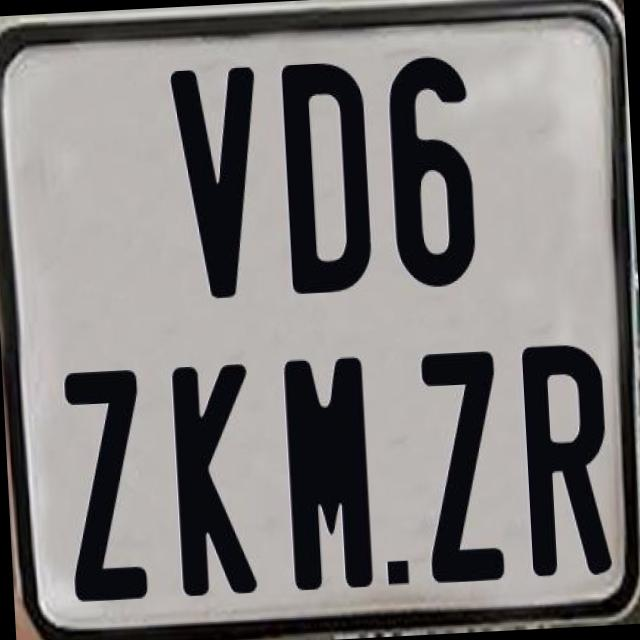6: (385, 50, 478, 284)
D: (280, 60, 374, 302)
K: (170, 362, 264, 596)
M: (280, 355, 376, 597)
R: (520, 343, 618, 586)
V: (167, 65, 266, 303)
Z: (64, 369, 154, 612), (419, 350, 510, 590)
